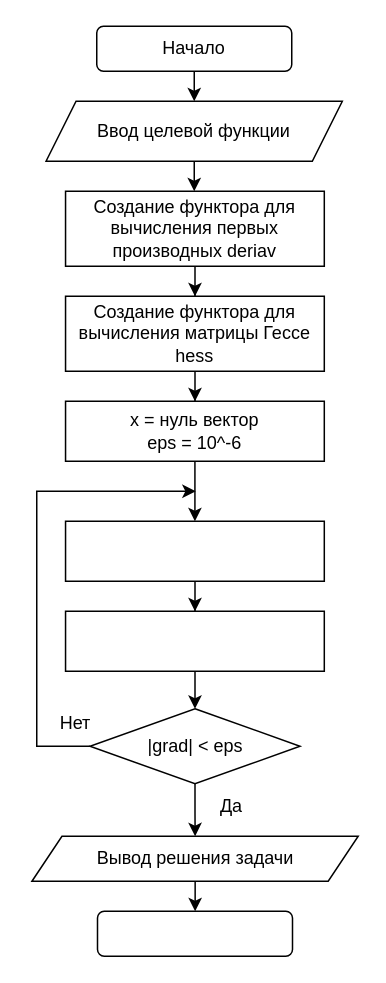
Some shapes in this 386 by 983 pixel diagram are drawn without their labels. Here are the shapes that lost their labels. From the top down, the centre of each, then its label:
At point (194, 550): "grad = deriav(x) hess_matrix = hess(x)".
At point (194, 640): "x = x - hess_matrix^-1 * grad".
At point (194, 933): "Конец".
